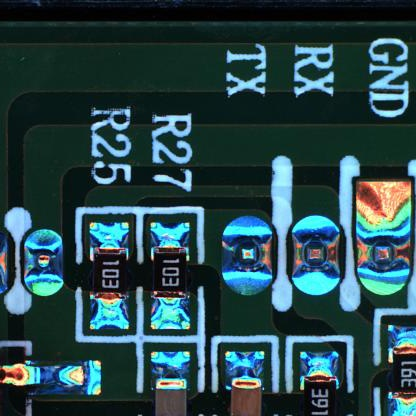spot: (216, 207, 277, 301), (284, 207, 346, 298), (18, 223, 70, 304)
